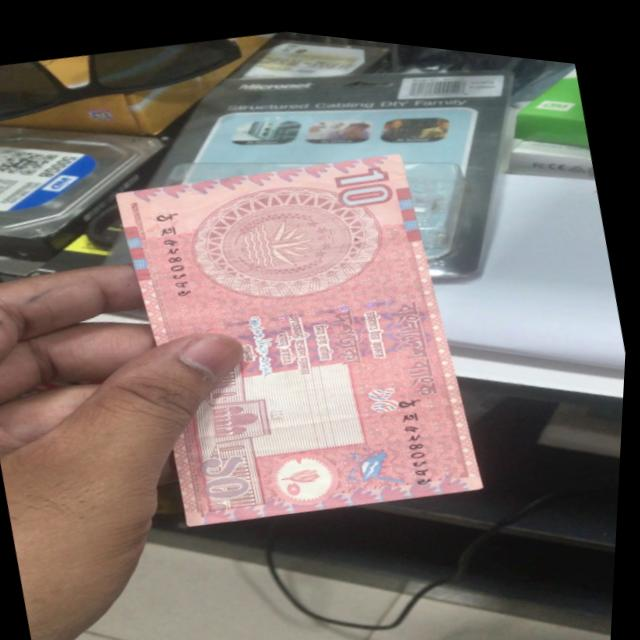Taka: (98, 111, 507, 555)
